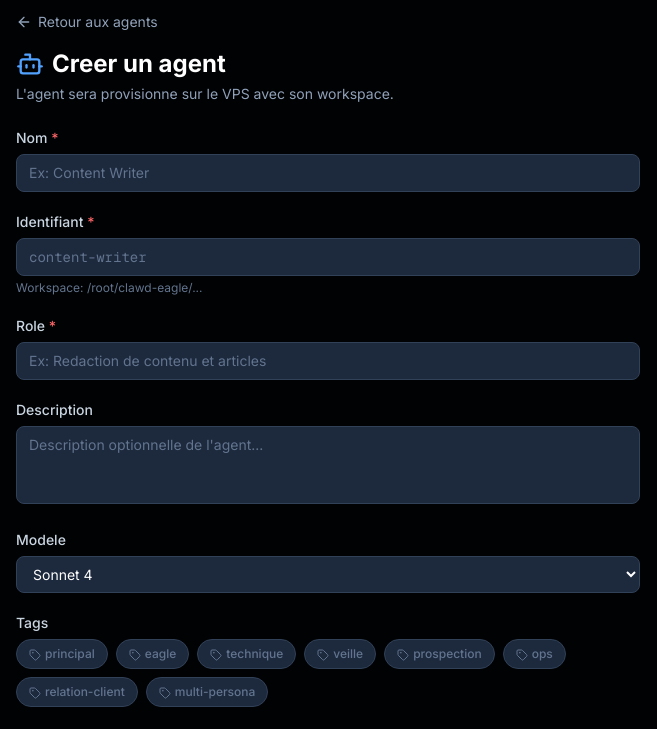
Scenario: NewAgentPage › toggles tags on click
Click the button "eagle" at point(152, 654), box [116,639,189,669]
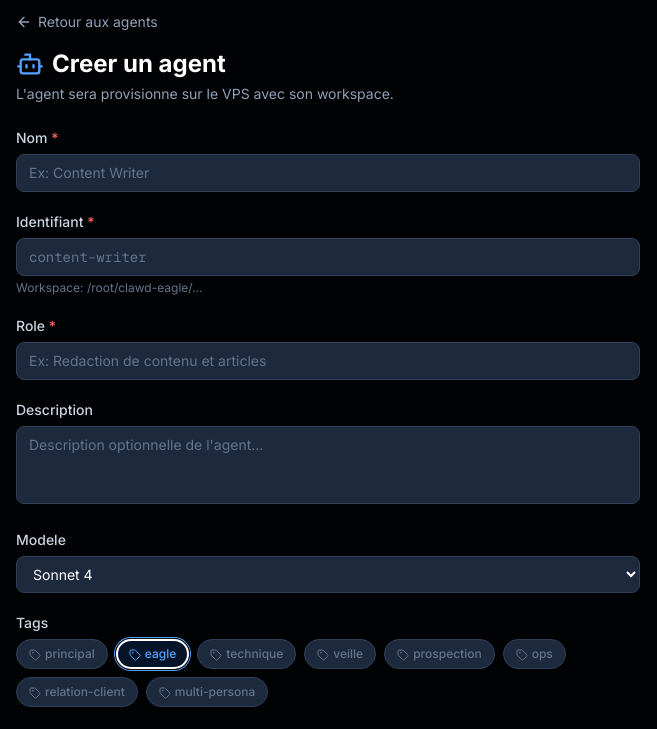
Check: the button "eagle" has class "text-blue-400", box [116,639,189,669]
